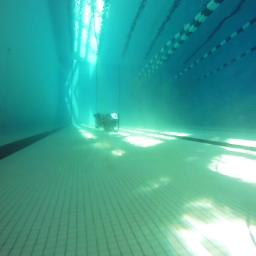back: (92, 110, 120, 133)
